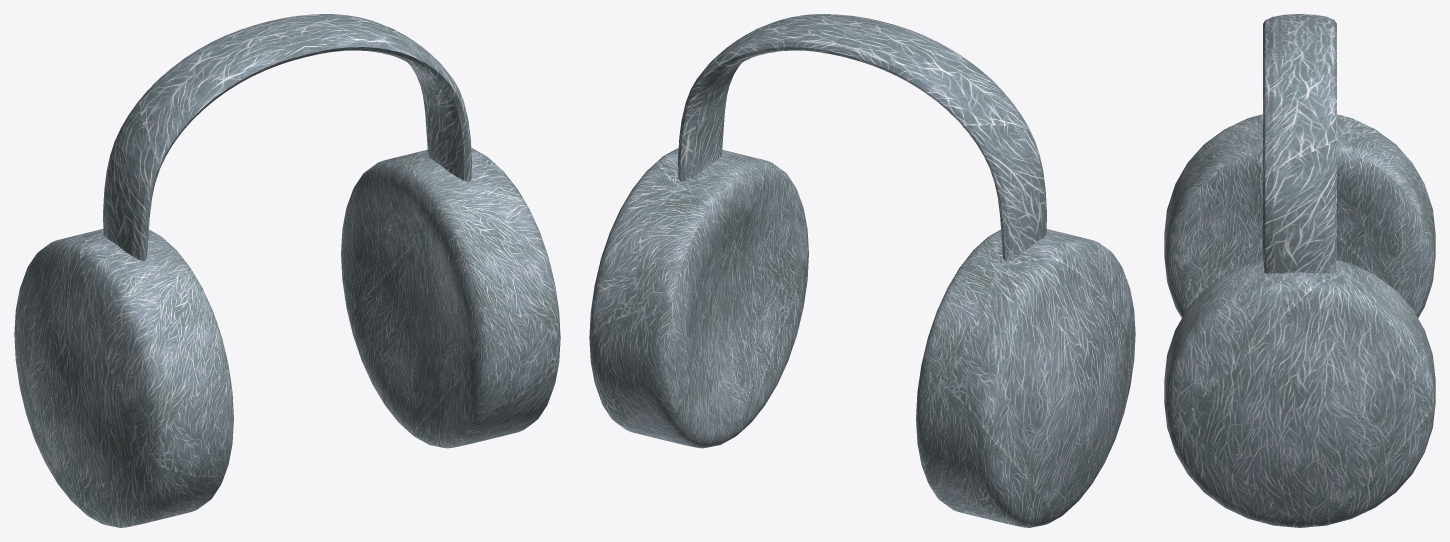
File: イヤーマフラー.fbx
The picture shows the model from 3 angles, left to right: view 1: azimuth 30°, elevation 25°; view 2: azimuth 150°, elevation 25°; view 3: azimuth 270°, elevation 25°; orthographic projection. The views are drawn at different scales.
Parts seen in each view (by area): view 1: Cube, Cube.001; view 2: Cube, Cube.001; view 3: Cube, Cube.001.
Boxes of the visible parts, x1,y1,x2,y2 form: Cube: (14, 148, 560, 527); Cube.001: (103, 14, 471, 260); Cube: (589, 148, 1135, 527); Cube.001: (678, 14, 1046, 260); Cube: (1164, 114, 1435, 527); Cube.001: (1263, 14, 1336, 273).
Bounding box in the file's own units: 558 × 519 × 315.
